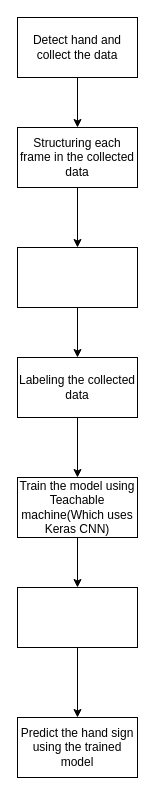
Some shapes in this 155 by 795 pixel diagram are drawn without their labels. Each missing label, with the centre of its shape:
"Export the trained model" goes at (77,617).
"Preprocess the collected data" goes at (77,277).
